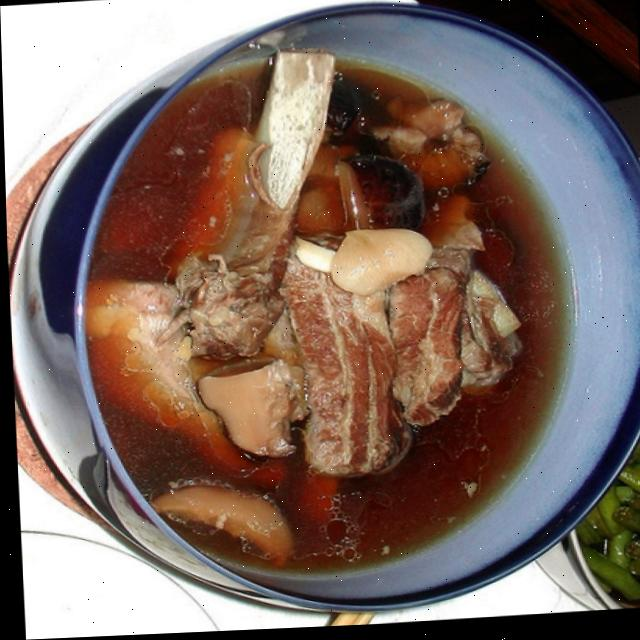汤锅炖物: (47, 13, 625, 615)
